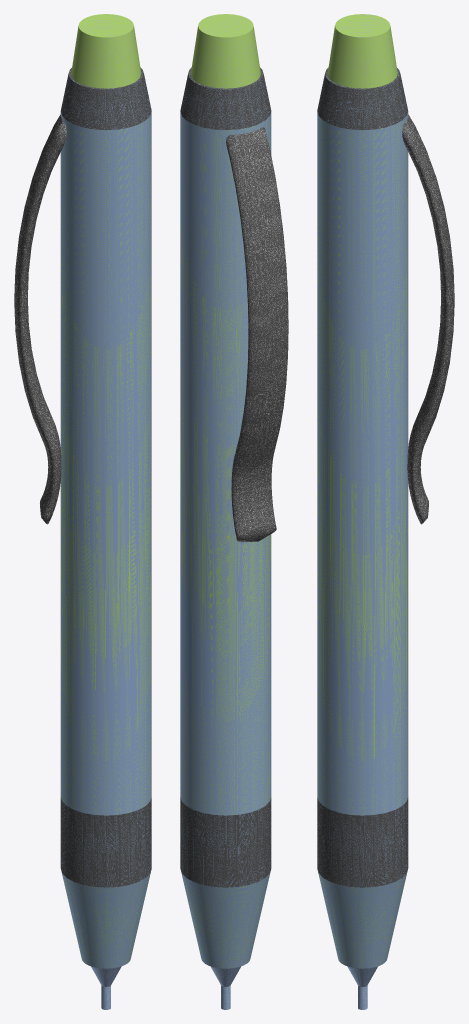
The model's file is pen3.dae.
The picture shows the model from 3 angles, left to right: view 1: azimuth 90°, elevation 25°; view 2: azimuth 210°, elevation 25°; view 3: azimuth 270°, elevation 25°; orthographic projection.
Visible parts, largest first — view 1: SketchUp_001, SketchUp, SketchUp_005, SketchUp_004, SketchUp_010, SketchUp_002, SketchUp_008; view 2: SketchUp_001, SketchUp_005, SketchUp, SketchUp_004, SketchUp_010, SketchUp_002, SketchUp_008; view 3: SketchUp_001, SketchUp, SketchUp_005, SketchUp_004, SketchUp_010, SketchUp_002, SketchUp_008.
Part boxes in pixels (bbox=[...]): SketchUp_001: bbox=[60, 111, 151, 815]; SketchUp: bbox=[60, 797, 151, 887]; SketchUp_005: bbox=[14, 114, 66, 524]; SketchUp_004: bbox=[61, 870, 151, 968]; SketchUp_010: bbox=[71, 14, 141, 88]; SketchUp_002: bbox=[61, 67, 151, 130]; SketchUp_008: bbox=[91, 966, 121, 986]; SketchUp_001: bbox=[180, 111, 271, 815]; SketchUp_005: bbox=[226, 127, 288, 542]; SketchUp: bbox=[180, 797, 271, 887]; SketchUp_004: bbox=[181, 870, 270, 968]; SketchUp_010: bbox=[190, 14, 260, 88]; SketchUp_002: bbox=[180, 67, 271, 129]; SketchUp_008: bbox=[210, 966, 240, 986]; SketchUp_001: bbox=[317, 111, 408, 815]; SketchUp: bbox=[317, 797, 408, 887]; SketchUp_005: bbox=[402, 114, 454, 524]; SketchUp_004: bbox=[317, 870, 407, 968]; SketchUp_010: bbox=[327, 14, 397, 88]; SketchUp_002: bbox=[317, 67, 407, 130]; SketchUp_008: bbox=[347, 966, 377, 986].
Size of the model in its own units: 0.0106 by 0.016 by 0.1263.
